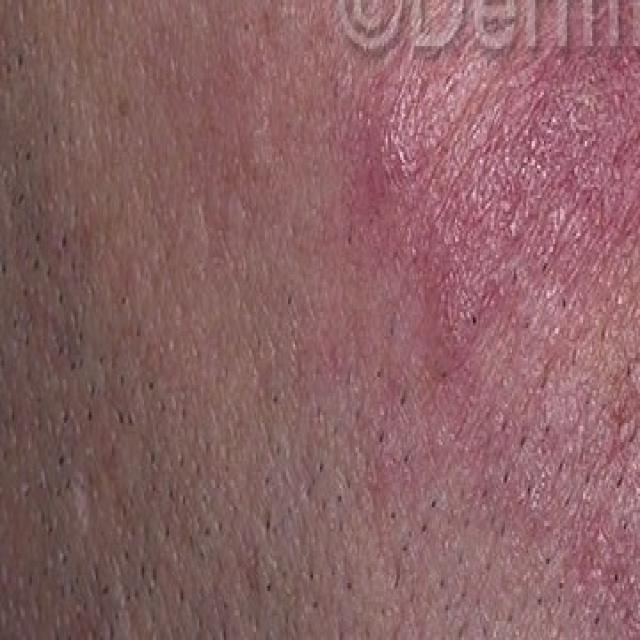Rosacea: (366, 63, 634, 554)
